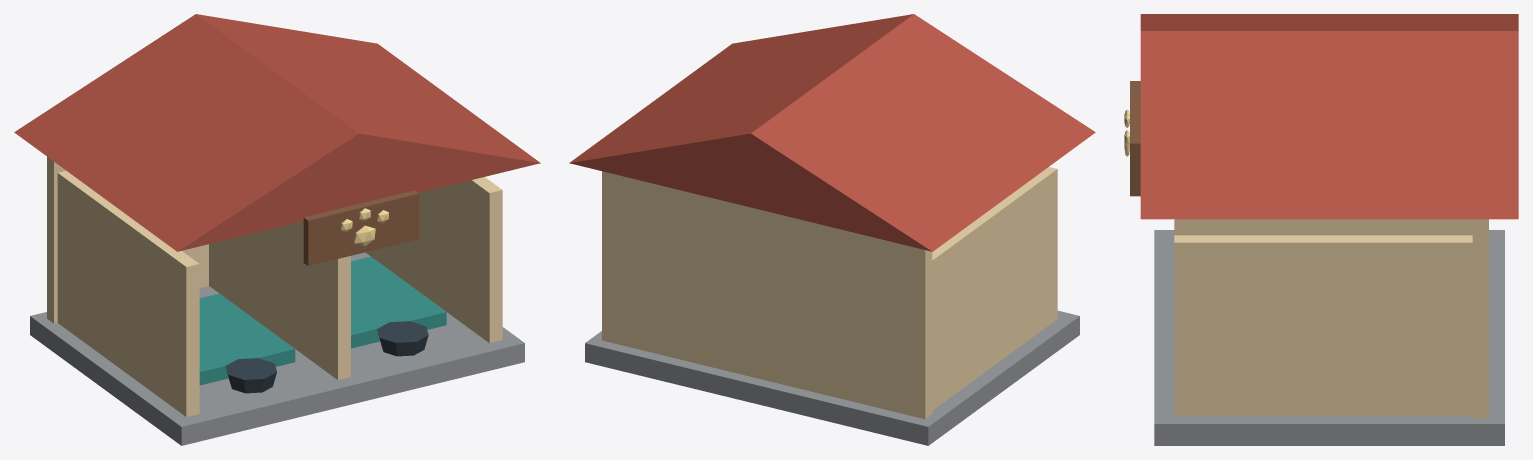
File: pet_shelter.glb
3 renders of one model, left to right at view 1: azimuth 30°, elevation 25°; view 2: azimuth 150°, elevation 25°; view 3: azimuth 270°, elevation 25°, orthographic. The views are drawn at different scales.
Visible parts, largest first — view 1: gable_roof, partition, foundation, partition.001, partition.002, shelter_sign, pet_bed, pet_bed.001, back_wall, bowl, bowl.001; view 2: gable_roof, back_wall, partition, foundation; view 3: gable_roof, partition.002, foundation, partition.001, back_wall, shelter_sign.
Boxes of the visible parts, box(x1,y1,x2,y2) form: gable_roof: box(14, 14, 540, 251); partition: box(57, 170, 199, 416); foundation: box(30, 252, 524, 445); partition.001: box(209, 221, 350, 379); partition.002: box(365, 177, 502, 343); shelter_sign: box(303, 190, 419, 266); pet_bed: box(199, 293, 295, 385); pet_bed.001: box(351, 256, 446, 348); back_wall: box(47, 157, 208, 323); bowl: box(225, 358, 276, 393); bowl.001: box(377, 321, 428, 356); gable_roof: box(569, 14, 1095, 251); back_wall: box(602, 171, 932, 419); partition: box(932, 167, 1057, 410); foundation: box(585, 310, 1079, 445); gable_roof: box(1140, 14, 1518, 219); partition.002: box(1174, 235, 1472, 416); foundation: box(1154, 230, 1504, 445); partition.001: box(1174, 219, 1472, 235); back_wall: box(1472, 219, 1488, 418); shelter_sign: box(1130, 81, 1140, 196).
Bounding box in the file's own units: 3.6 × 2.6 × 2.92.
